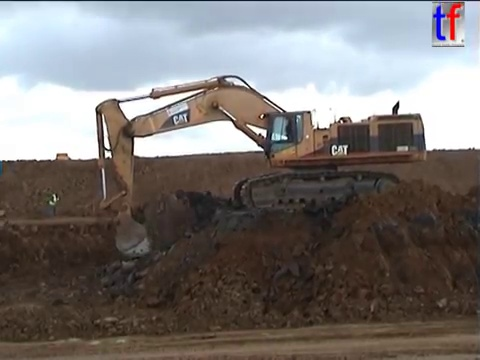excavator: (92, 72, 429, 260)
truck: (54, 151, 71, 166), (1, 207, 9, 233)
worker: (45, 188, 62, 219)
